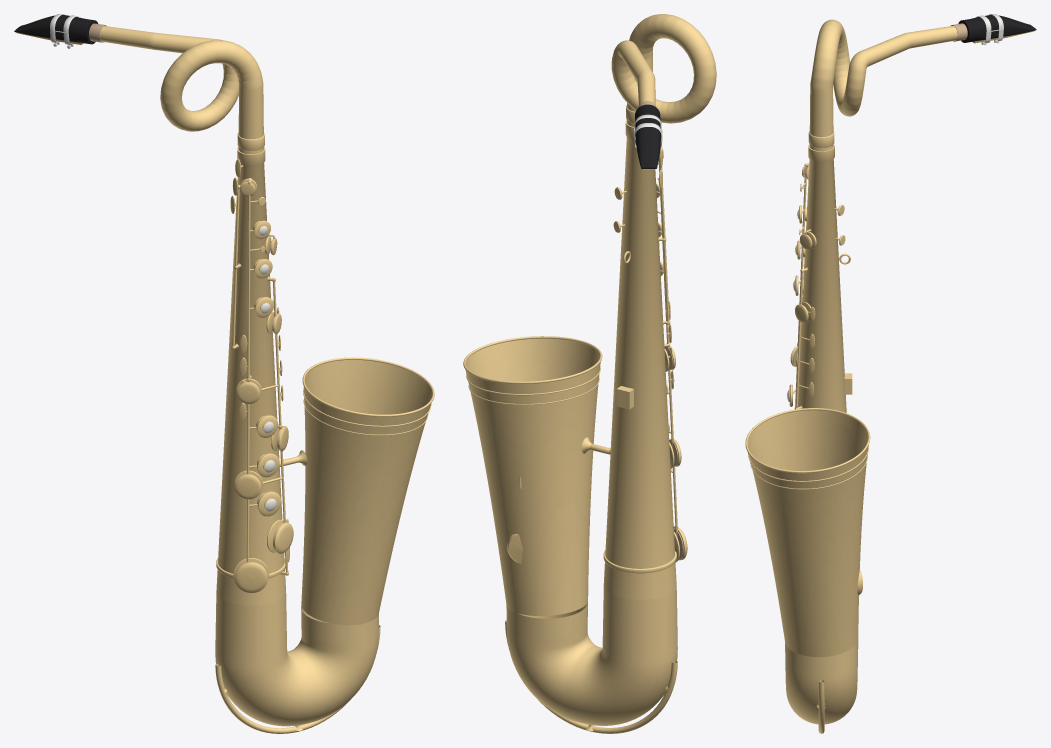
The model's file is bariSax.glb.
The picture shows the model from 3 angles, left to right: view 1: azimuth 30°, elevation 25°; view 2: azimuth 150°, elevation 25°; view 3: azimuth 270°, elevation 25°; orthographic projection. The views are drawn at different scales.
Parts seen in each view (by area): view 1: Body; view 2: Body; view 3: Body.
Part boxes in pixels (<box>): Body: <box>14,14,434,733</box>; Body: <box>463,14,716,733</box>; Body: <box>745,14,1036,733</box>.
Size of the model in its own units: 0.5124 by 1.18 by 0.4677.
